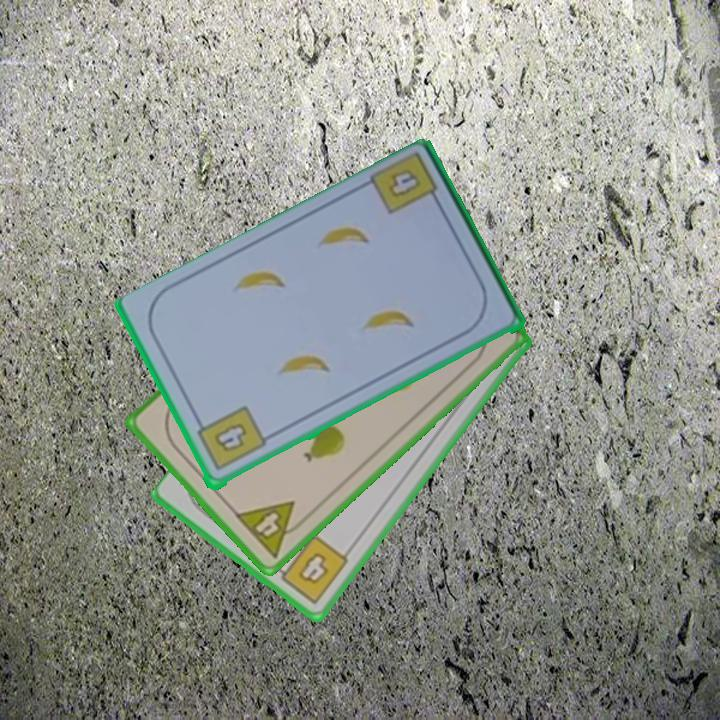4b: (271, 530, 352, 607), (192, 402, 268, 474), (366, 150, 445, 218)
4p: (231, 497, 312, 561)
